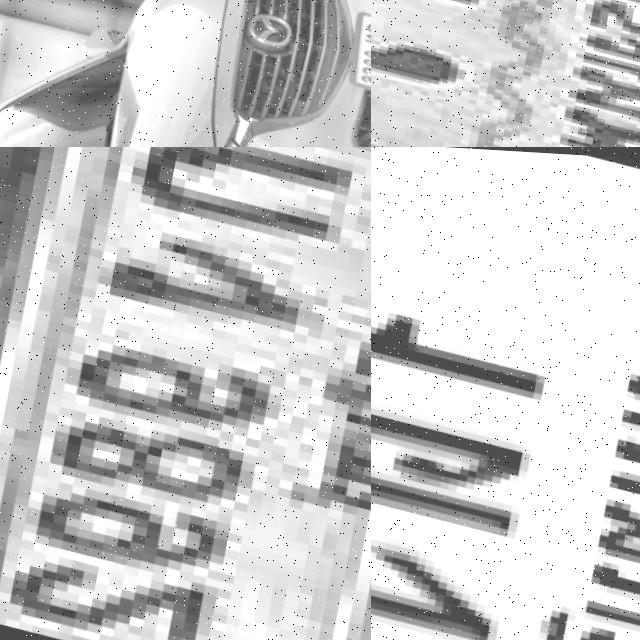license-plate: (0, 147, 371, 640), (371, 147, 640, 640), (371, 0, 640, 147), (342, 2, 371, 94)
